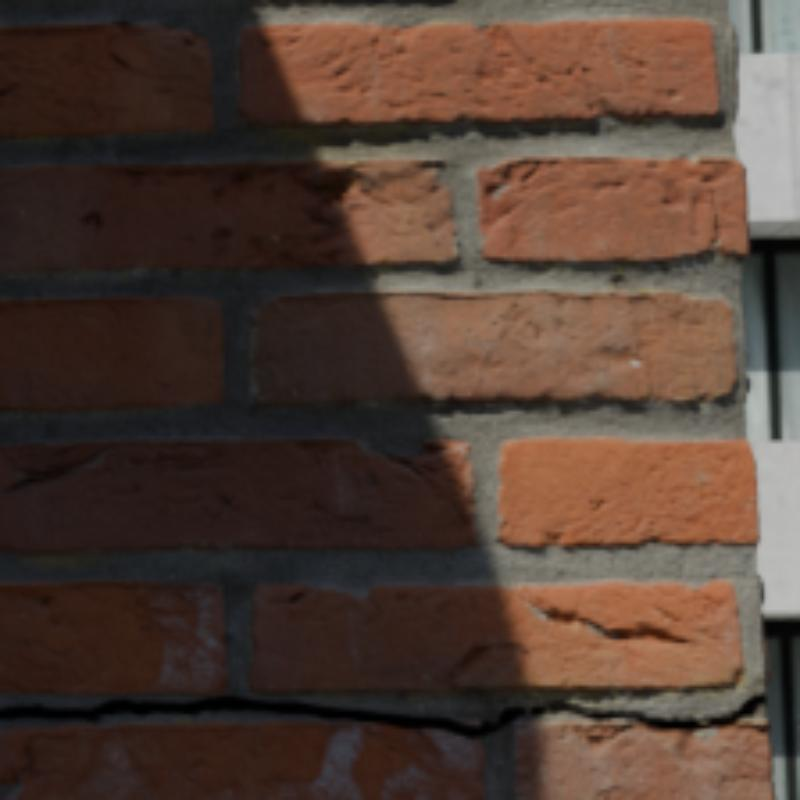pothole: (0, 693, 761, 736)
